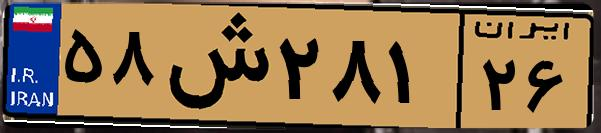1: (385, 28, 445, 110)
2: (270, 28, 330, 110), (475, 38, 525, 113)
5: (57, 26, 110, 100)
6: (525, 38, 570, 115)
8: (330, 28, 385, 110), (110, 28, 158, 98)
ش: (158, 12, 270, 120)
